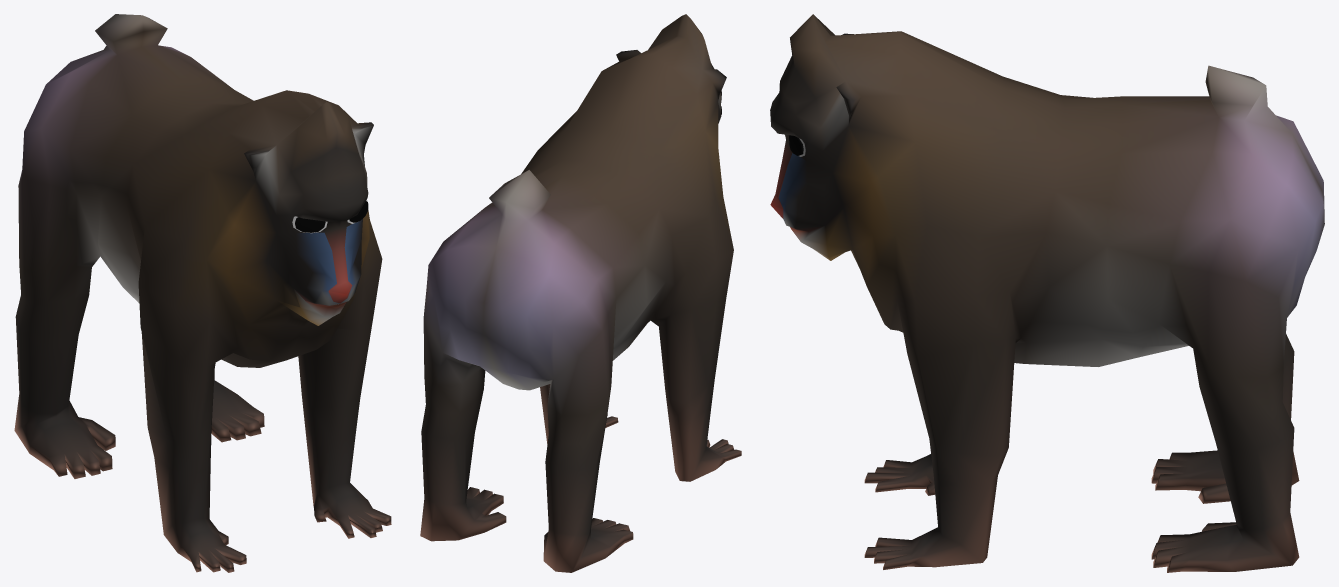
File: animals-animals-mandrill_v1.glb
3 renders of one model, left to right at view 1: azimuth 30°, elevation 25°; view 2: azimuth 150°, elevation 25°; view 3: azimuth 270°, elevation 25°, orthographic. The views are drawn at different scales.
Parts seen in each view (by area): view 1: Mandrill.001; view 2: Mandrill.001; view 3: Mandrill.001.
Part boxes in pixels (bbox=[...]): Mandrill.001: bbox=[14, 14, 391, 572]; Mandrill.001: bbox=[420, 14, 741, 572]; Mandrill.001: bbox=[770, 14, 1324, 572].
Bounding box in the file's own units: 0.5421 × 1.09 × 1.09.
